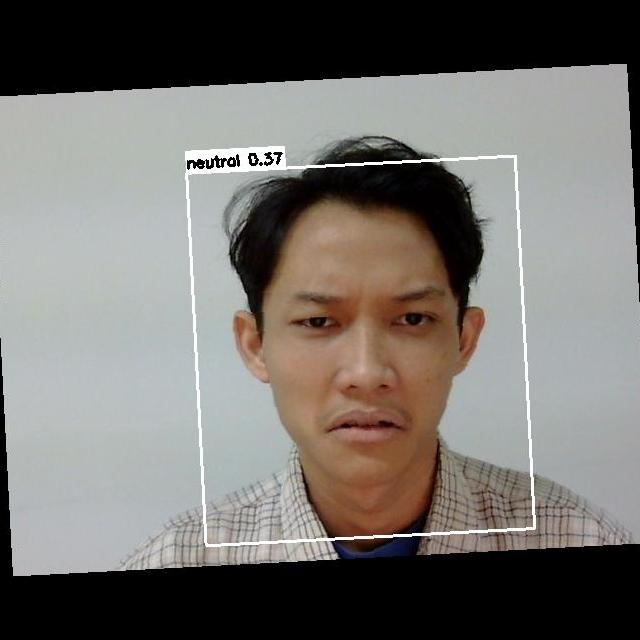Disgust: (262, 241, 465, 475)
